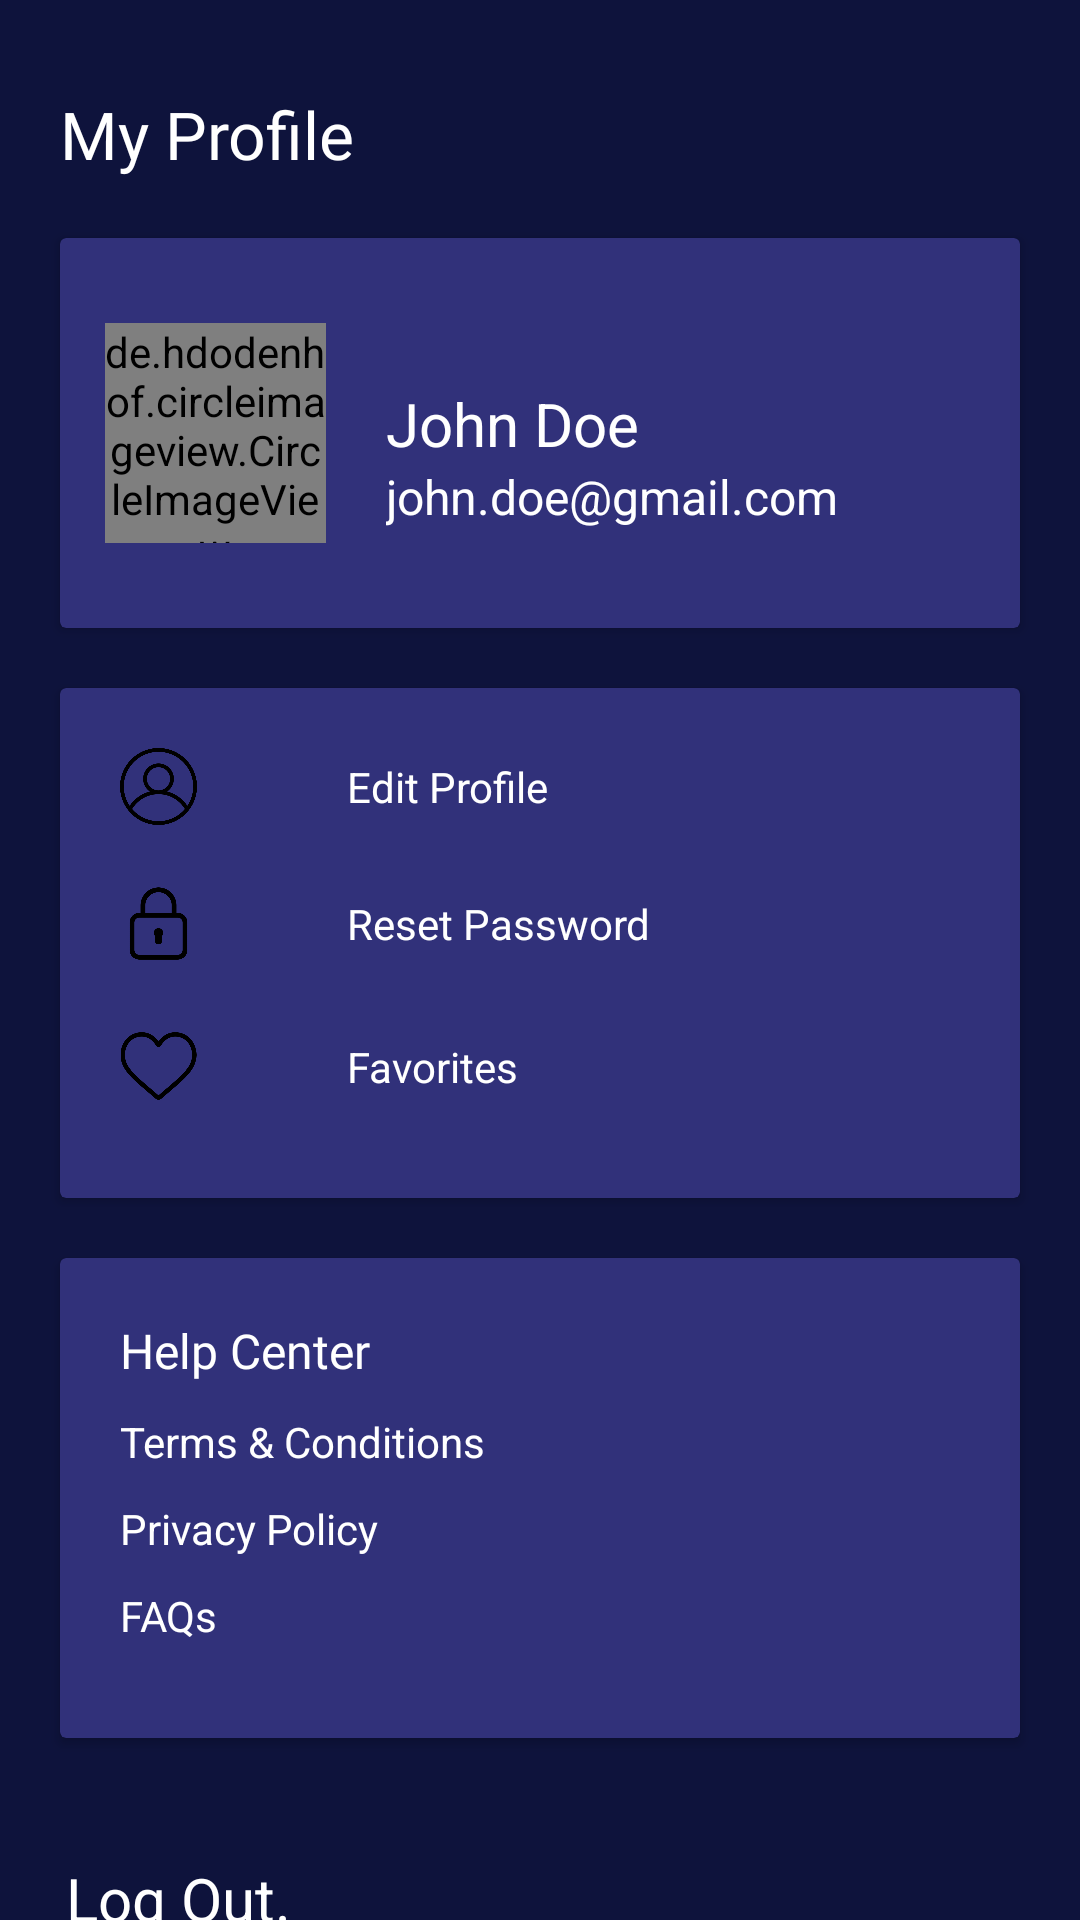

Screen size 1080px x 1920px. Icon name, then its center in pixels as [x,y]:
heart: [159,1066]
user: [158,786]
